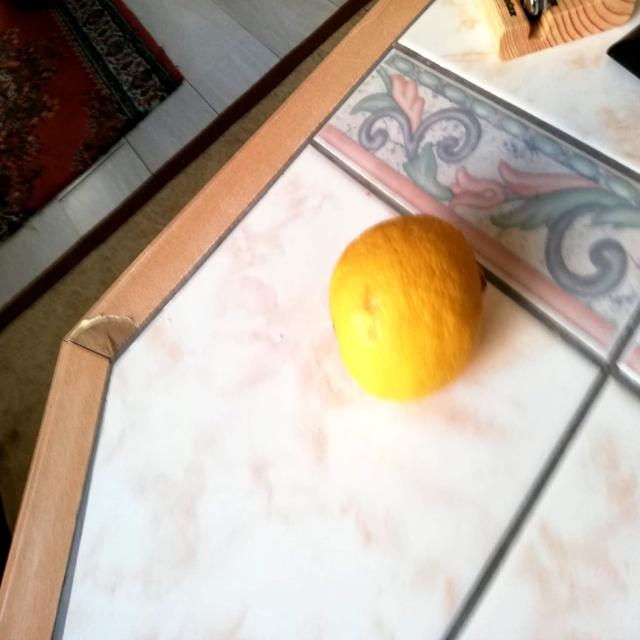lemon: (323, 208, 499, 410)
